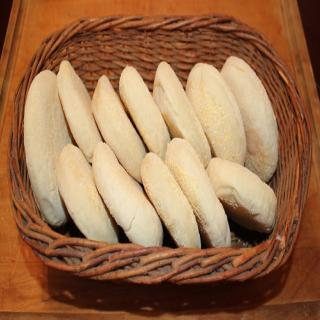Bread: (22, 50, 274, 253), (205, 145, 275, 233)
